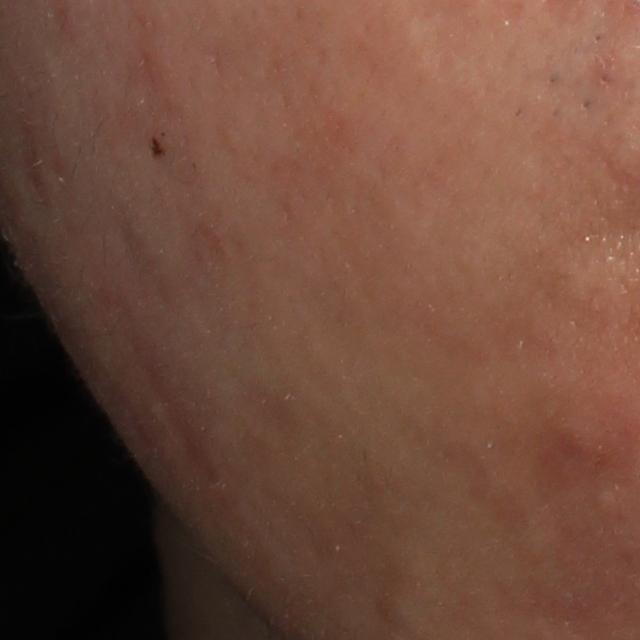nevus: (148, 136, 170, 161)
